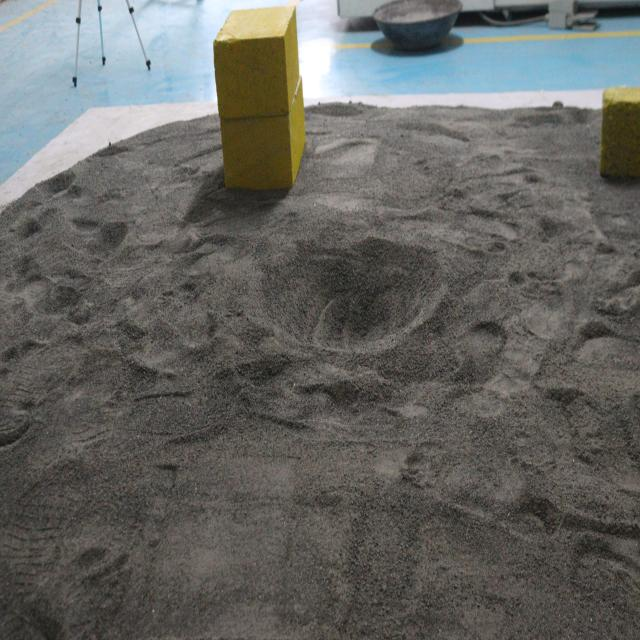box: (212, 5, 311, 202), (600, 77, 640, 190)
crater: (242, 221, 448, 371)
